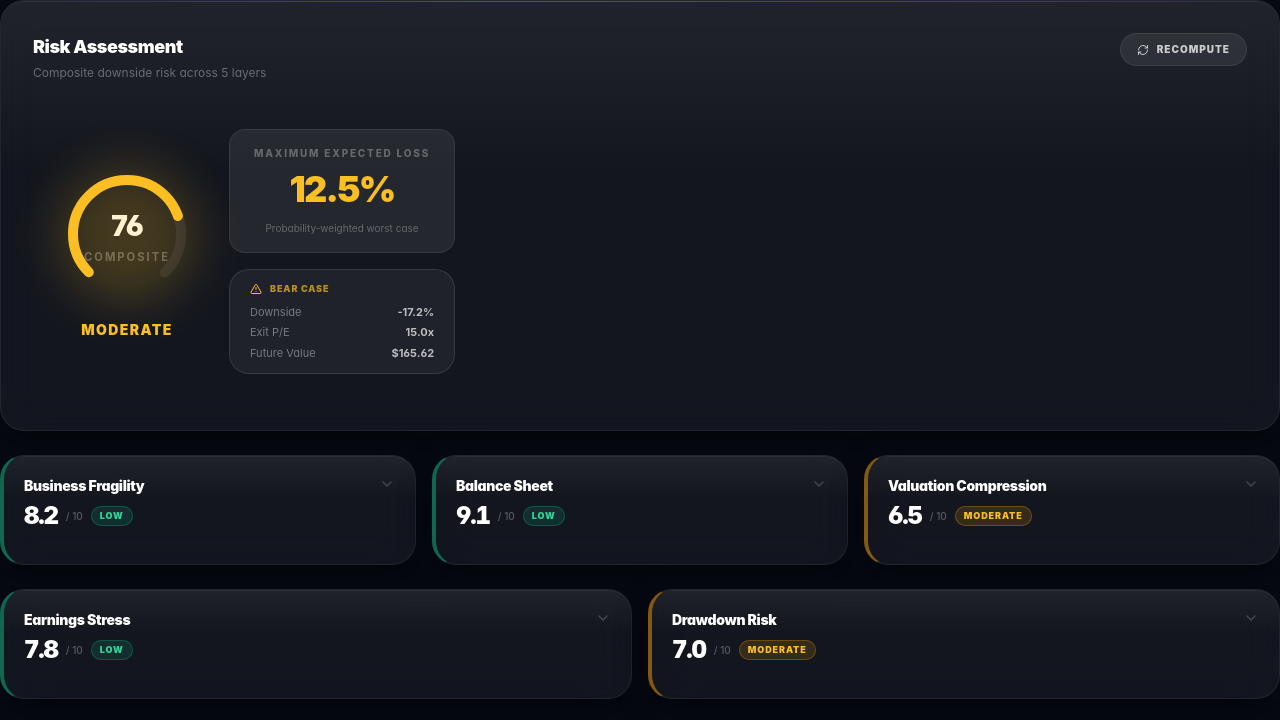
RiskPanel — UT-F1 to UT-F15 › UT-F9: Earnings Stress card shows CAGRs on expand
Click the heading "Earnings Stress" at (78,620), box [24, 610, 133, 630]
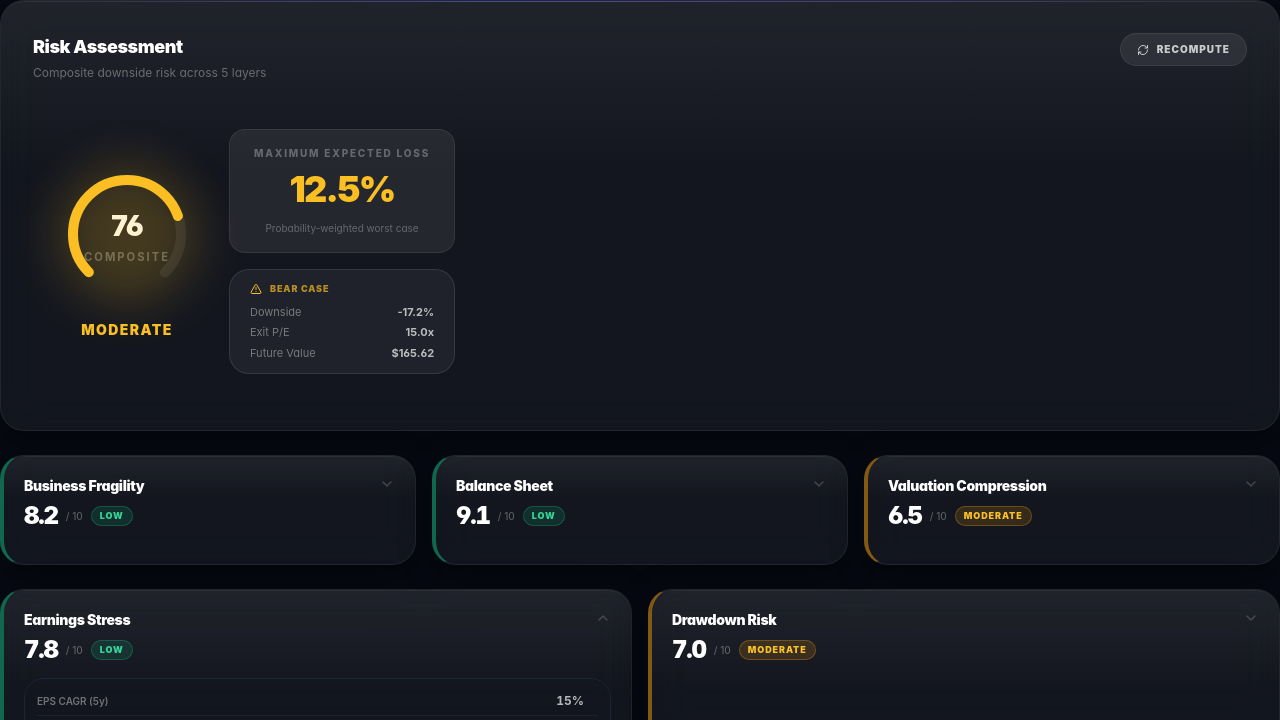
Expected: the text "15%" is shown, [556, 693, 584, 709]
